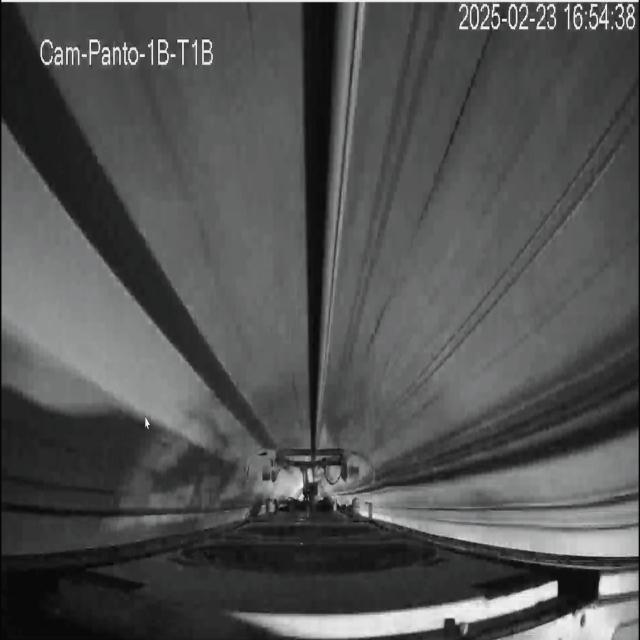Camera Stamp: (33, 27, 221, 72)
Date Stamp: (458, 3, 636, 33)
